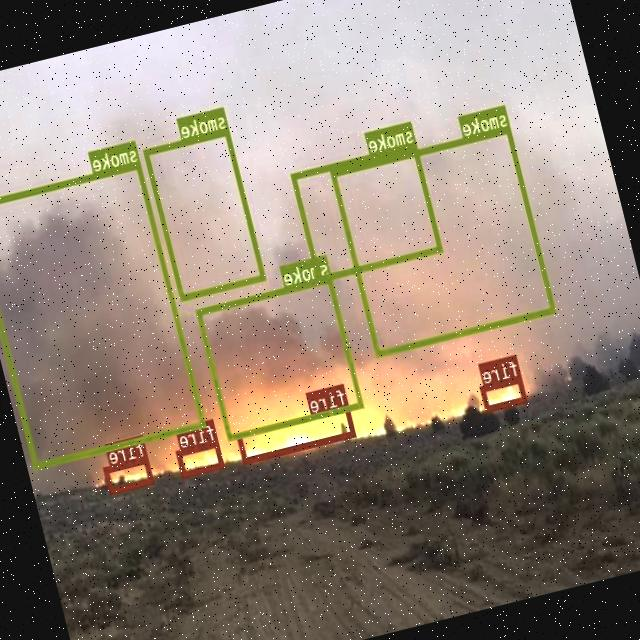fire: (237, 404, 357, 463), (104, 456, 154, 494), (177, 438, 225, 476), (481, 374, 528, 410)
smoke: (0, 161, 206, 468), (330, 125, 558, 355), (196, 274, 364, 440), (291, 142, 444, 280), (144, 128, 266, 300)
